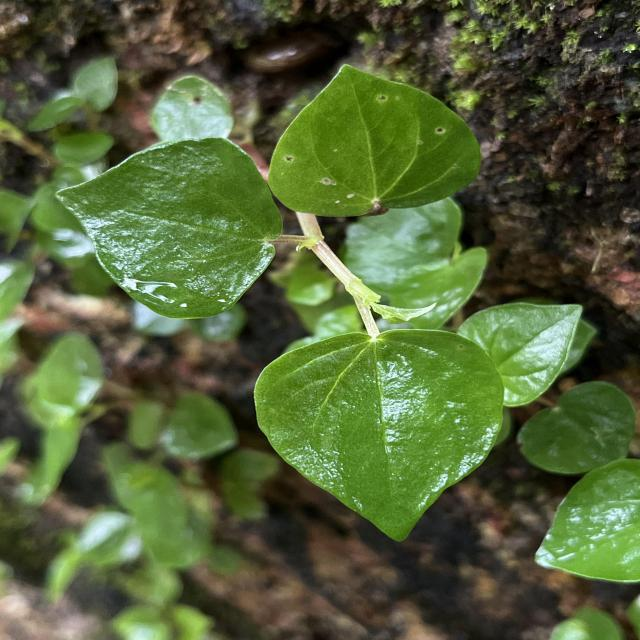Peperomia pellucida: (253, 326, 507, 544), (55, 135, 284, 320), (262, 61, 484, 220)
